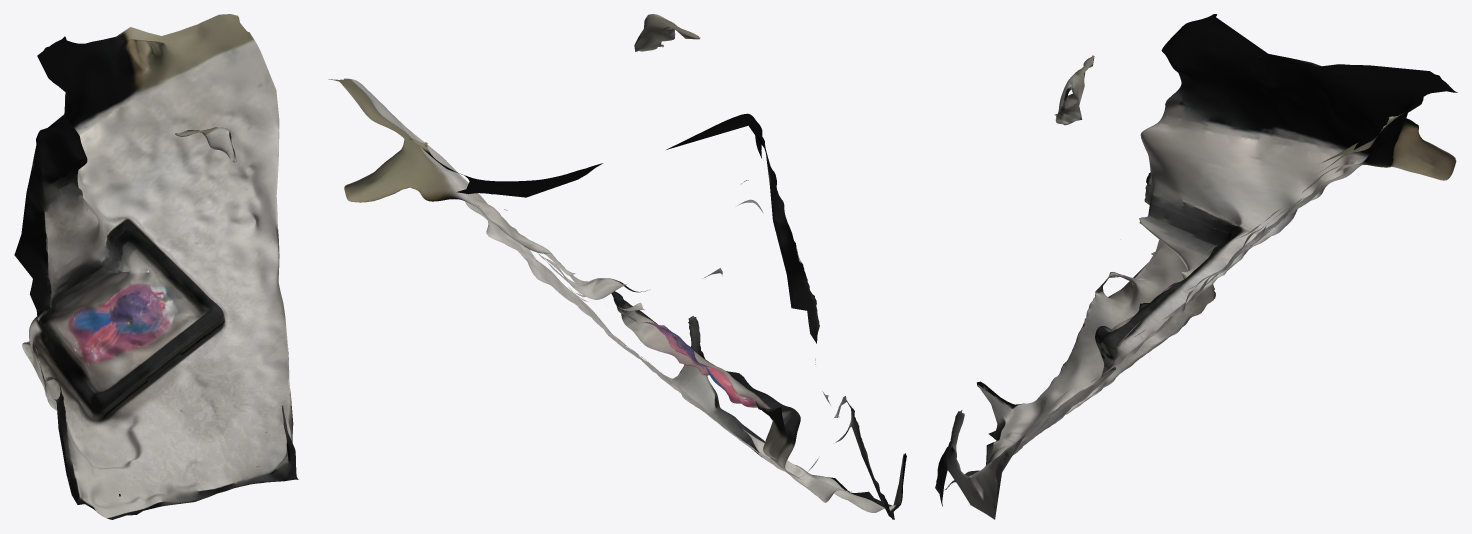
3 views of the same model, side by side, from view 1: azimuth 30°, elevation 25°; view 2: azimuth 150°, elevation 25°; view 3: azimuth 270°, elevation 25° (orthographic). The views are drawn at different scales.
Bounding box in the file's own units: 0.7274 × 0.8427 × 0.9059.
1 material, 1 textured.
